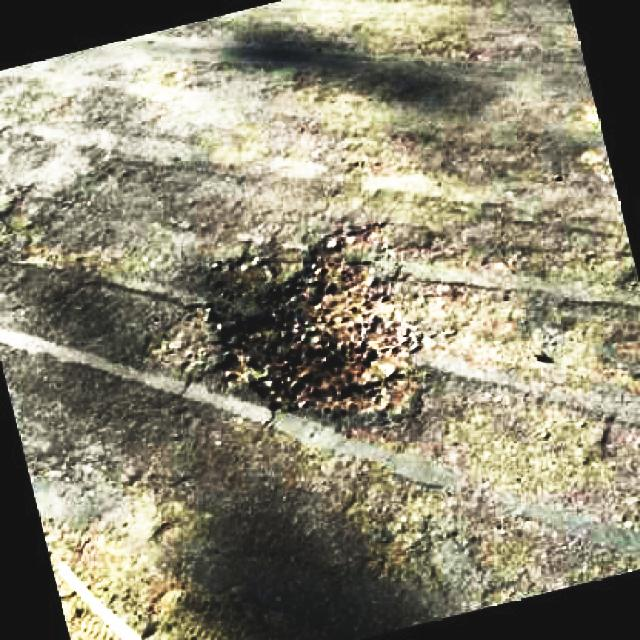pothole: (219, 218, 426, 418)
